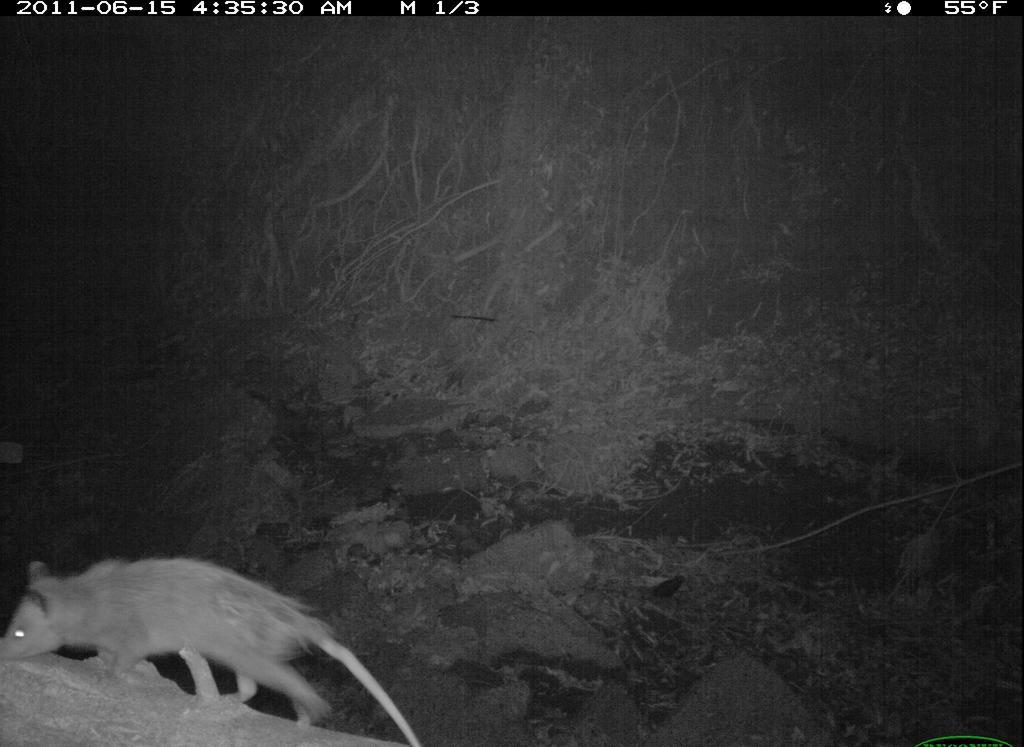opossum: (3, 546, 406, 737)
